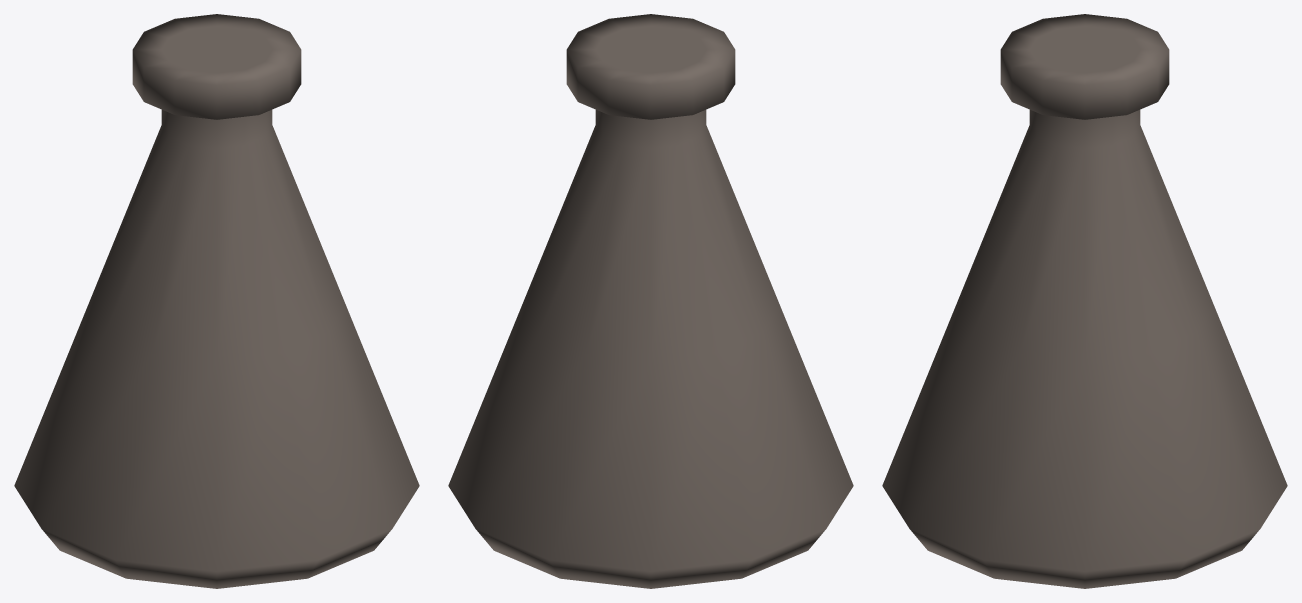
Rendered from Flask_Colored_01.fbx.
3 views of the same model, side by side, from view 1: azimuth 30°, elevation 25°; view 2: azimuth 150°, elevation 25°; view 3: azimuth 270°, elevation 25° (orthographic).
Parts seen in each view (by area): view 1: Flask; view 2: Flask; view 3: Flask.
Part boxes in pixels (box(x1,y1,x2,y2)): Flask: box(14, 14, 419, 588); Flask: box(448, 14, 853, 588); Flask: box(882, 14, 1287, 588).
Size of the model in its own units: 55.69 by 70.1 by 55.69.
